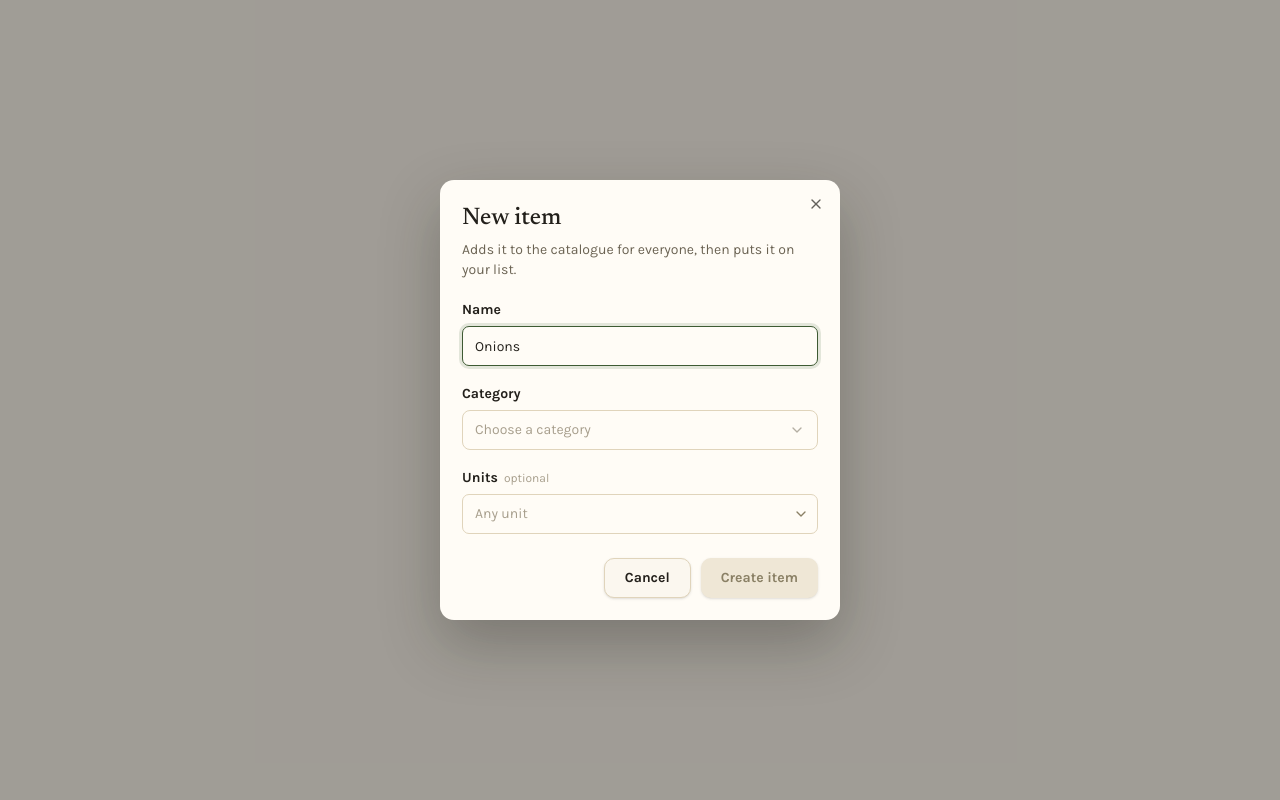
Test: CreateItemDialog › shows a duplicate name under the Name field and stays open
What coordinates should you click on to do the following:
click the dropdown labelled "category"
I would click on:
 (533, 430)
Its box is x1=462 y1=410 x2=818 y2=450.
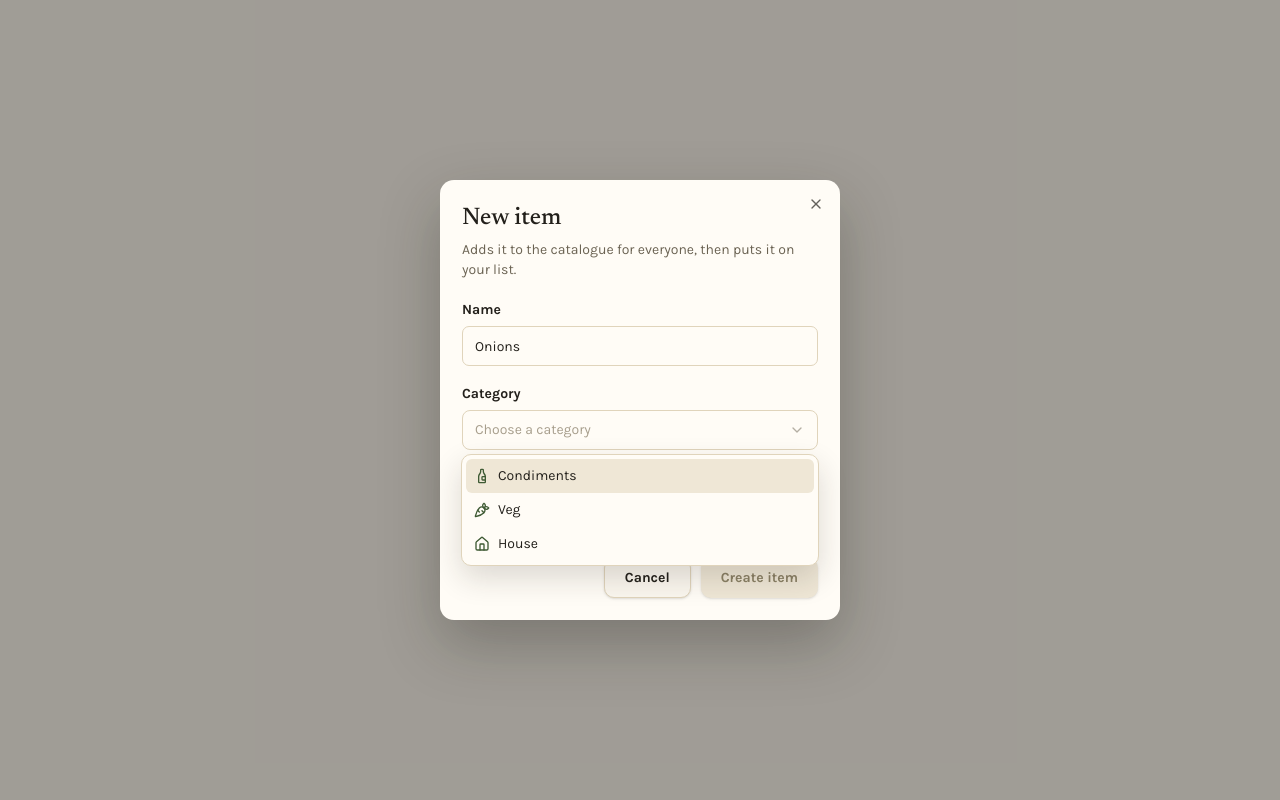
What coordinates should you click on to do the following:
click the option "Veg"
I would click on:
 (497, 510)
Its box is x1=474 y1=501 x2=520 y2=518.
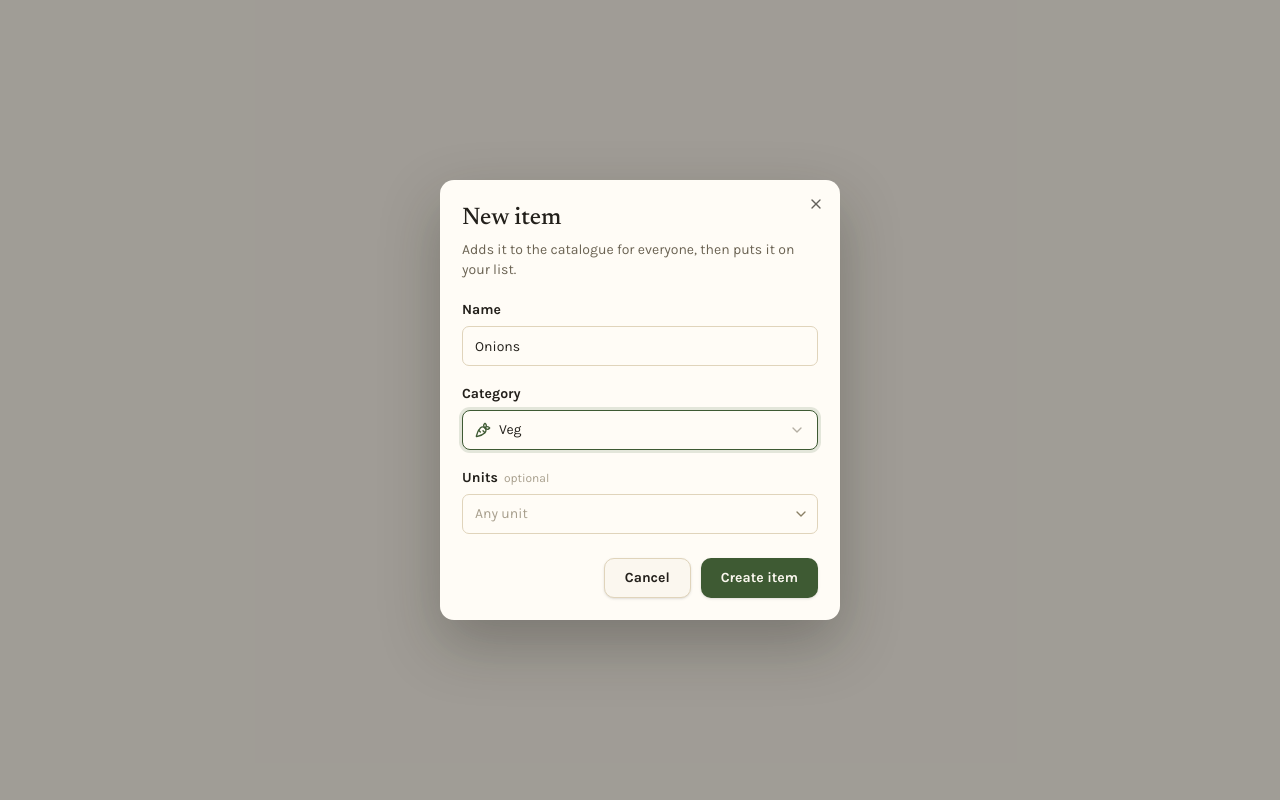
What coordinates should you click on to do the following:
click the button "Create item"
I would click on:
 (759, 578)
Its box is x1=701 y1=558 x2=818 y2=598.
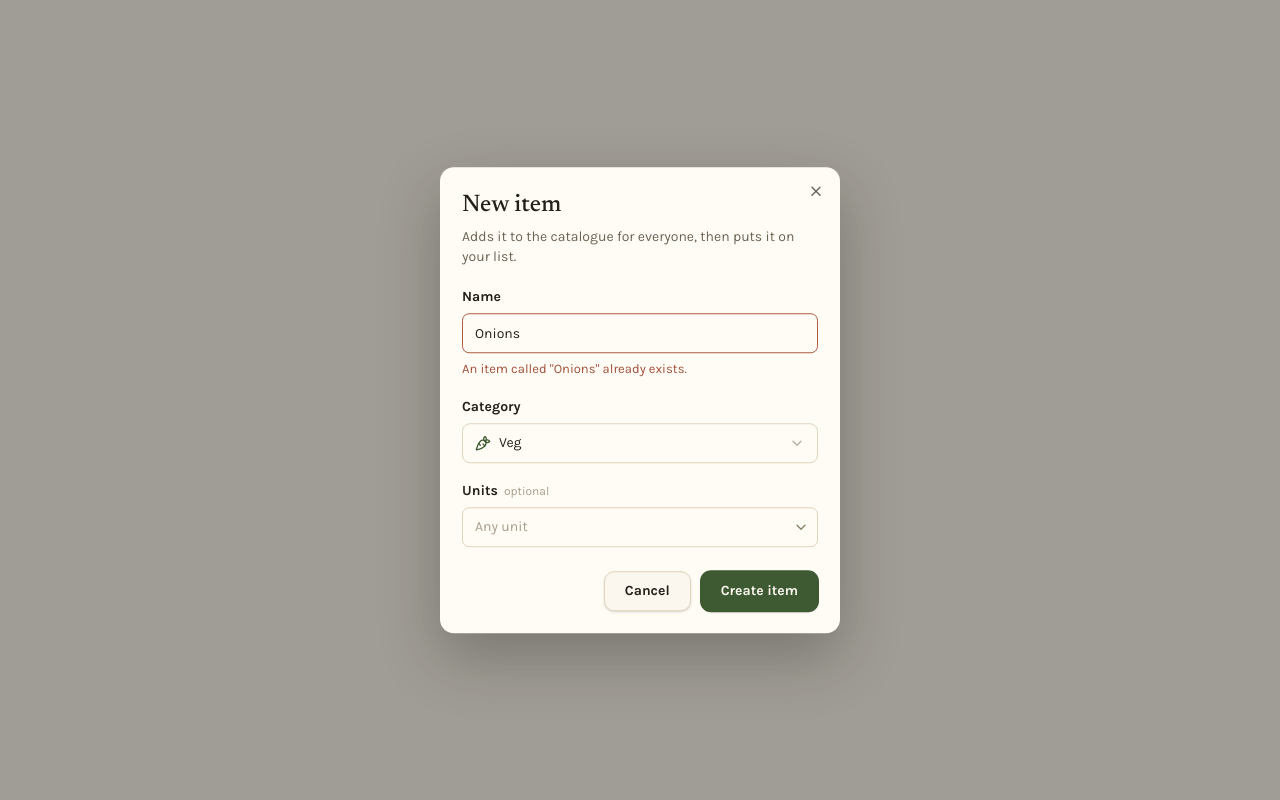
Expected: the dialog "New item" is shown, x1=440 y1=167 x2=840 y2=633
Expected: the text "An item called \"Onions\" already exists." is shown, x1=462 y1=361 x2=687 y2=376
